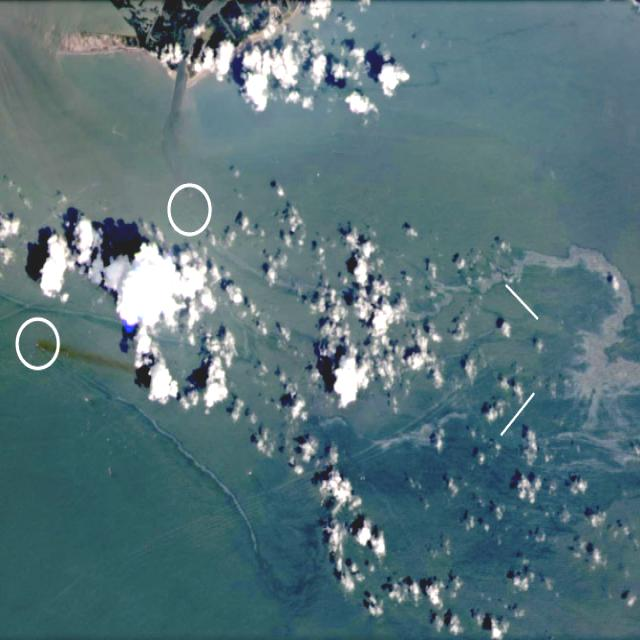oil spill: (571, 268, 639, 433), (59, 347, 128, 372), (400, 430, 438, 438)
